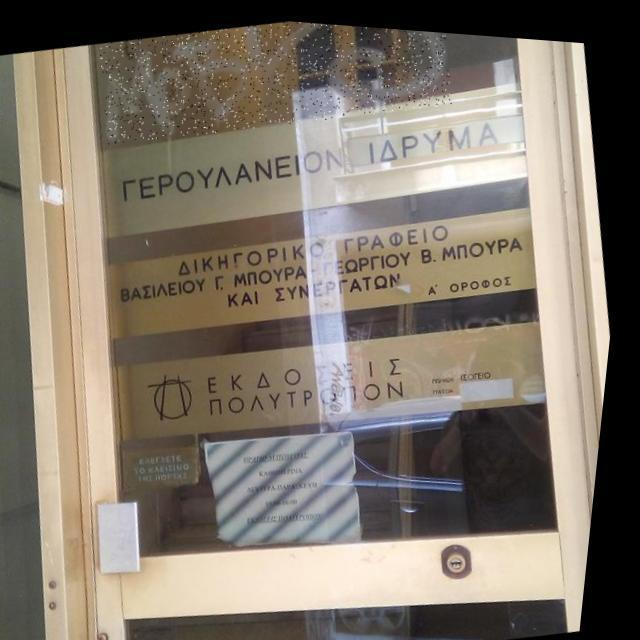-: (92, 6, 459, 163)
